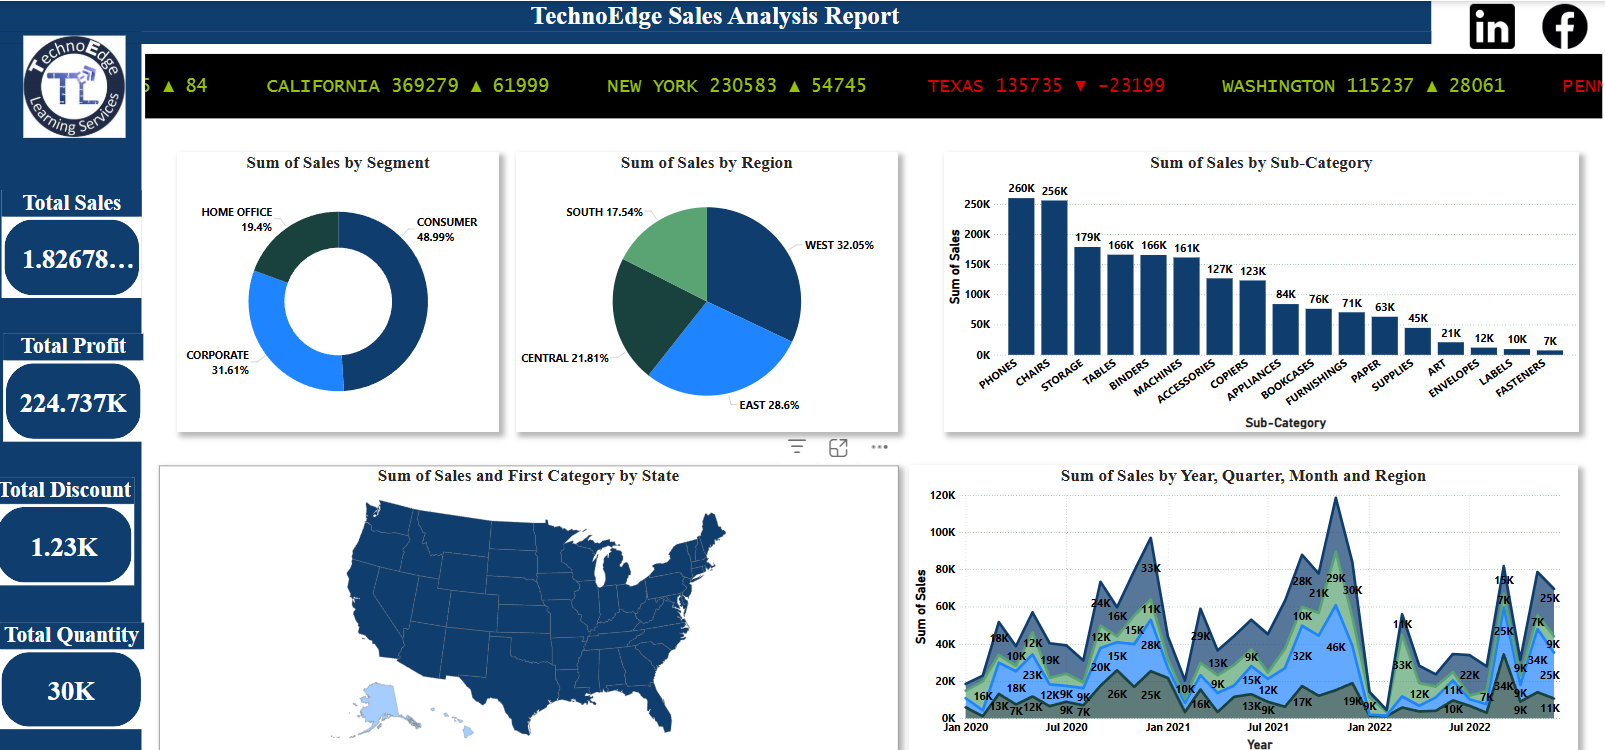

Layout of this report page (visuals, bound fields, positions):
{"tool":"powerbi","page":{"name":"Page 1","canvas":[3000,1400],"ordinal":0},"visuals":[{"type":"shape","box":[9.7,0,266.1,1400.5],"z":0},{"type":"shape","title":"TechnoEdge Sales Analysis Report","box":[9.7,0,2667.9,79.8],"z":1000},{"type":"cardVisual","title":"Total Sales","fields":{"Data":["Sum(PROJECT FOLDER.Sales)"]},"box":[14.5,350.7,261.2,200.8],"z":2000},{"type":"cardVisual","title":"Total Profit","fields":{"Data":["Sum(PROJECT FOLDER.Profit)"]},"box":[16.9,619.2,261.2,200.8],"z":3000},{"type":"cardVisual","title":"Total Discount","fields":{"Data":["Sum(PROJECT FOLDER.Discount)"]},"box":[0,887.7,261.2,200.8],"z":4000},{"type":"cardVisual","title":"Total Quantity","fields":{"Data":["Sum(PROJECT FOLDER.Quantity)"]},"box":[7.3,1156.2,270.9,198.3],"z":5000},{"type":"stackedAreaChart","fields":{"Category":["PROJECT FOLDER.Order Date.Variation.Date Hierarchy.Year","PROJECT FOLDER.Order Date.Variation.Date Hierarchy.Quarter","PROJECT FOLDER.Order Date.Variation.Date Hierarchy.Month","PROJECT FOLDER.Order Date.Variation.Date Hierarchy.Day"],"Y":["Sum(PROJECT FOLDER.Sales)"],"Series":["PROJECT FOLDER.Region"]},"box":[1705.3,863.5,1245.7,537],"z":6000},{"type":"shapeMap","fields":{"Value":["Sum(PROJECT FOLDER.Sales)"],"Category":["PROJECT FOLDER.State"]},"box":[307.2,863.5,1376.3,537],"z":7000},{"type":"columnChart","fields":{"Category":["PROJECT FOLDER.Sub-Category"],"Y":["Sum(PROJECT FOLDER.Sales)"]},"box":[1768.2,280.6,1182.8,520],"z":8000},{"type":"pieChart","fields":{"Category":["PROJECT FOLDER.Region"],"Y":["Sum(PROJECT FOLDER.Sales)"]},"box":[972.4,280.6,711.1,520],"z":9000},{"type":"donutChart","fields":{"Category":["PROJECT FOLDER.Segment"],"Y":["Sum(PROJECT FOLDER.Sales)"]},"box":[341.1,280.6,599.9,520],"z":10000},{"type":"ScrollingTextVisual1448795304508","fields":{"Category":["PROJECT FOLDER.State"],"Measure Absolute":["Sum(PROJECT FOLDER.Sales)"],"Measure Deviation":["Sum(PROJECT FOLDER.Profit)"]},"box":[275.7,94.3,2723.6,130.6],"z":11000},{"type":"image","box":[16.9,60.5,266.1,200.8],"z":12000},{"type":"image","box":[2716.3,0,150,94.3],"z":13000},{"type":"image","box":[2849.4,0,150,94.3],"z":14000}]}

Visuals, with their boxes in screenshot pixels (x1, y1, x2, y2), scaled from the page's 3000x1400 canvas onto the 1605x750 screenshot:
shape: (5, 0, 148, 749)
"TechnoEdge Sales Analysis Report" shape: (5, 0, 1433, 43)
"Total Sales" cardVisual: (8, 188, 147, 295)
"Total Profit" cardVisual: (9, 332, 149, 439)
"Total Discount" cardVisual: (0, 476, 140, 583)
"Total Quantity" cardVisual: (4, 619, 149, 726)
stackedAreaChart - PROJECT FOLDER.Order Date.Variation.Date Hierarchy.Year x PROJECT FOLDER.Order Date.Variation.Date Hierarchy.Quarter: (912, 463, 1579, 749)
shapeMap - Sum(PROJECT FOLDER.Sales) x PROJECT FOLDER.State: (164, 463, 901, 749)
columnChart - PROJECT FOLDER.Sub-Category x Sum(PROJECT FOLDER.Sales): (946, 150, 1579, 429)
pieChart - PROJECT FOLDER.Region x Sum(PROJECT FOLDER.Sales): (520, 150, 901, 429)
donutChart - PROJECT FOLDER.Segment x Sum(PROJECT FOLDER.Sales): (182, 150, 503, 429)
ScrollingTextVisual1448795304508 - PROJECT FOLDER.State x Sum(PROJECT FOLDER.Sales): (147, 51, 1604, 120)
image: (9, 32, 151, 140)
image: (1453, 0, 1533, 51)
image: (1524, 0, 1604, 51)
